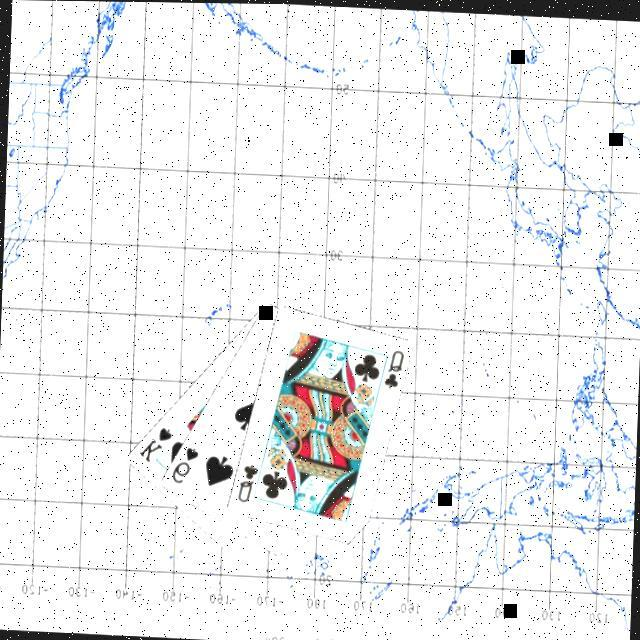6S: (168, 441, 201, 484)
KS: (134, 421, 176, 464)
QC: (234, 456, 262, 504), (380, 342, 408, 389)
